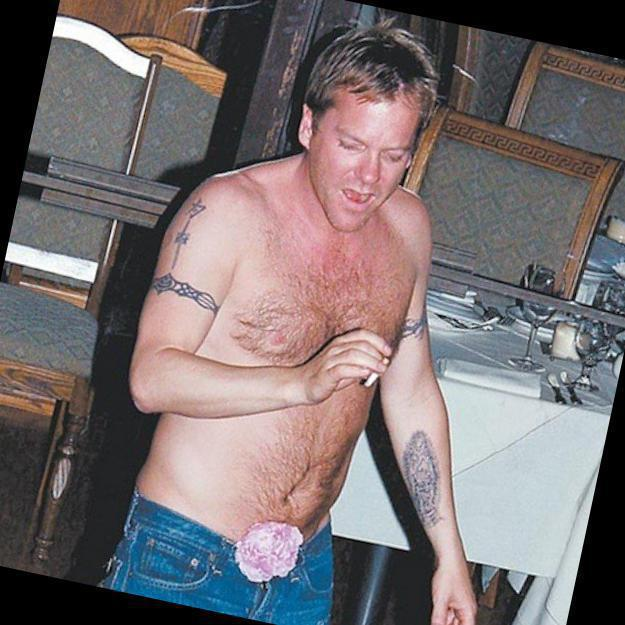Drunk: (319, 93, 416, 229)
